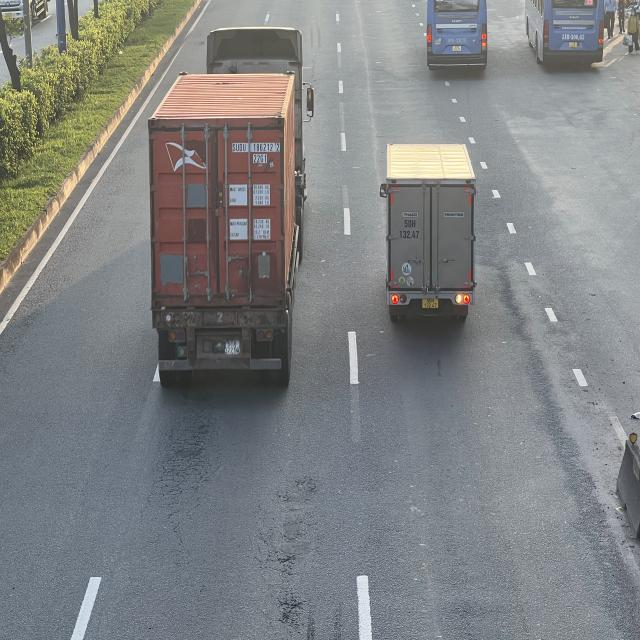coach: (523, 0, 606, 63), (427, 0, 492, 71)
container: (151, 21, 315, 386)
truck: (380, 143, 476, 322)
